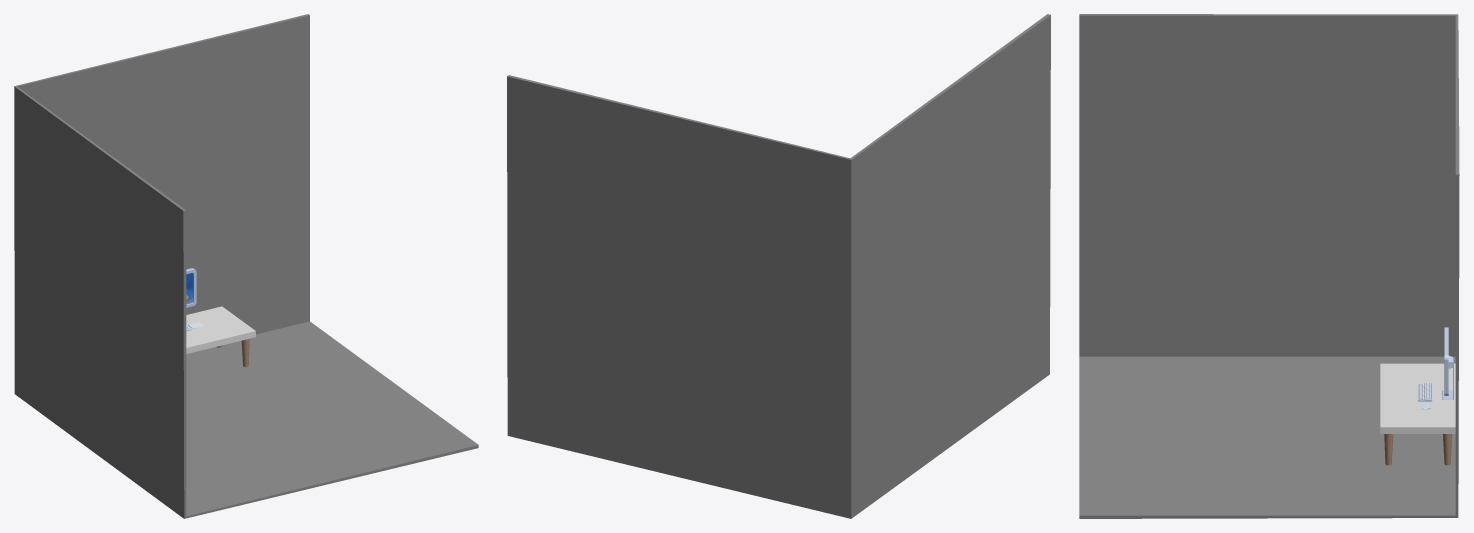
File: room.glb
3 views of the same model, side by side, from view 1: azimuth 30°, elevation 25°; view 2: azimuth 150°, elevation 25°; view 3: azimuth 270°, elevation 25° (orthographic). The views are drawn at different scales.
Parts seen in each view (by area): view 1: 平面, 立方体; view 2: 平面; view 3: 平面, 立方体, 柱体, 立方体.001.
Boxes of the visible parts, x1=… form: 平面: x1=14, y1=14, x2=478, y2=518; 立方体: x1=186, y1=306, x2=255, y2=353; 平面: x1=507, y1=14, x2=1050, y2=518; 平面: x1=1079, y1=14, x2=1459, y2=518; 立方体: x1=1380, y1=363, x2=1455, y2=433; 柱体: x1=1384, y1=434, x2=1451, y2=465; 立方体.001: x1=1442, y1=327, x2=1453, y2=399.
Size of the model in its own units: 5.05 by 5.05 by 5.05.
10 materials, 1 textured.
